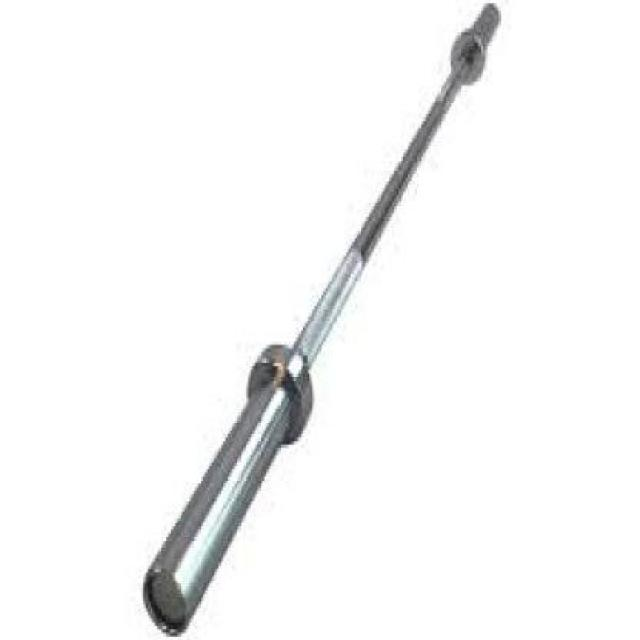Barbell: (130, 544, 206, 636)
